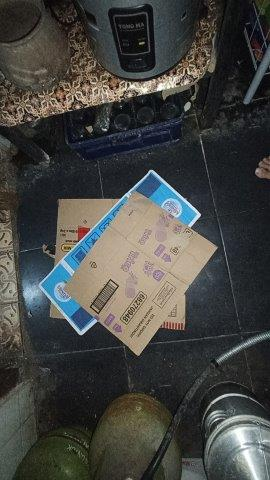kardus: (41, 171, 216, 355)
